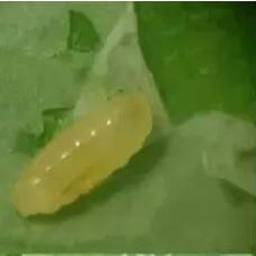liriomyza: (11, 90, 153, 217)
